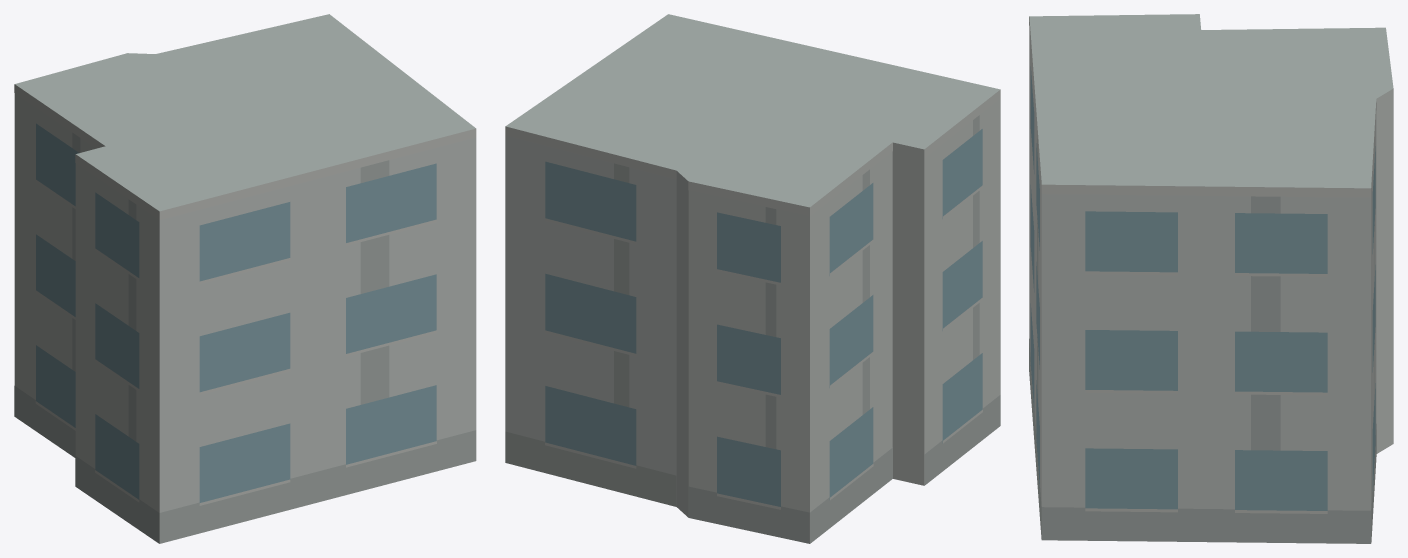
Rendered from residential-906d0438-85a7-498d-ad12-403b3228904e.glb.
3 renders of one model, left to right at view 1: azimuth 30°, elevation 25°; view 2: azimuth 150°, elevation 25°; view 3: azimuth 270°, elevation 25°, orthographic. The views are drawn at different scales.
Parts seen in each view (by area): view 1: residential-906d0438-85a7-498d-ad12-403b3228904e.tmp; view 2: residential-906d0438-85a7-498d-ad12-403b3228904e.tmp; view 3: residential-906d0438-85a7-498d-ad12-403b3228904e.tmp.
Part boxes in pixels (bbox=[...]): residential-906d0438-85a7-498d-ad12-403b3228904e.tmp: bbox=[14, 14, 476, 543]; residential-906d0438-85a7-498d-ad12-403b3228904e.tmp: bbox=[505, 14, 1000, 543]; residential-906d0438-85a7-498d-ad12-403b3228904e.tmp: bbox=[1029, 14, 1393, 543].
Size of the model in its own units: 9.63 by 9.15 by 8.51.
